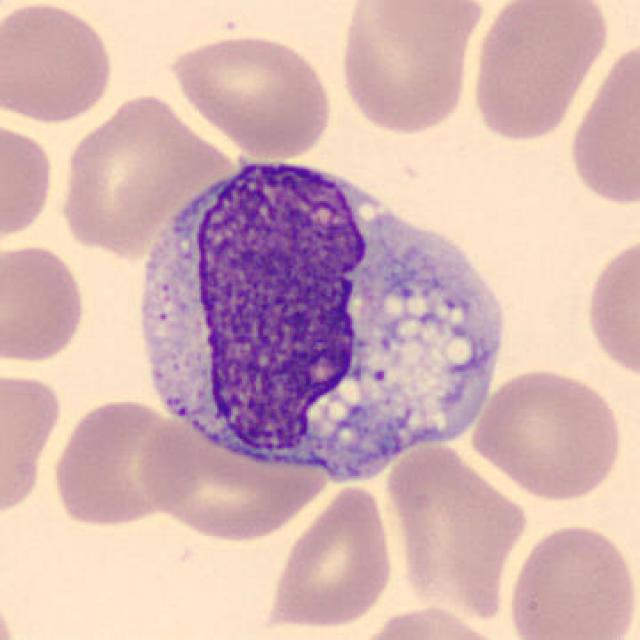Monocyte: (125, 141, 518, 492)
RBC: (381, 436, 534, 622), (55, 88, 219, 259), (135, 411, 333, 546), (165, 28, 336, 160), (469, 363, 626, 504), (46, 395, 203, 531), (260, 480, 398, 634), (334, 0, 486, 138), (468, 0, 612, 143), (503, 520, 638, 640), (0, 0, 117, 127), (563, 35, 640, 209), (0, 240, 89, 367), (0, 366, 64, 524), (581, 233, 640, 384), (0, 116, 57, 247), (352, 0, 487, 48), (348, 601, 512, 640)
